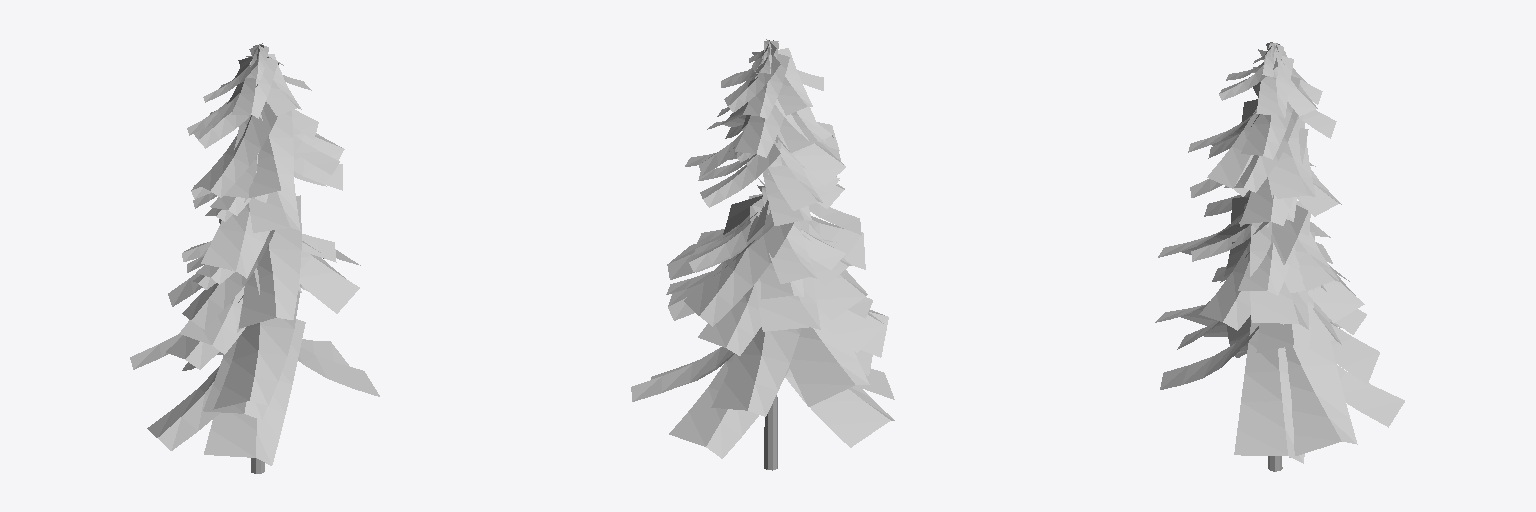
File: Tree06.obj
The picture shows the model from 3 angles: view 1: azimuth 30°, elevation 25°; view 2: azimuth 150°, elevation 25°; view 3: azimuth 270°, elevation 25°; orthographic projection.
Visible parts, largest first — view 1: Cylinder.002; view 2: Cylinder.002; view 3: Cylinder.002.
Part boxes in pixels (x1,y1,x2,y2): Cylinder.002: (130,43,379,473); Cylinder.002: (631,39,894,470); Cylinder.002: (1155,42,1404,471).
Size of the model in its own units: 4.18 by 7.59 by 4.05.